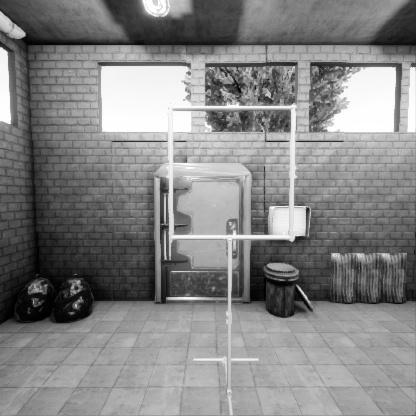gate: (166, 180, 304, 318)
